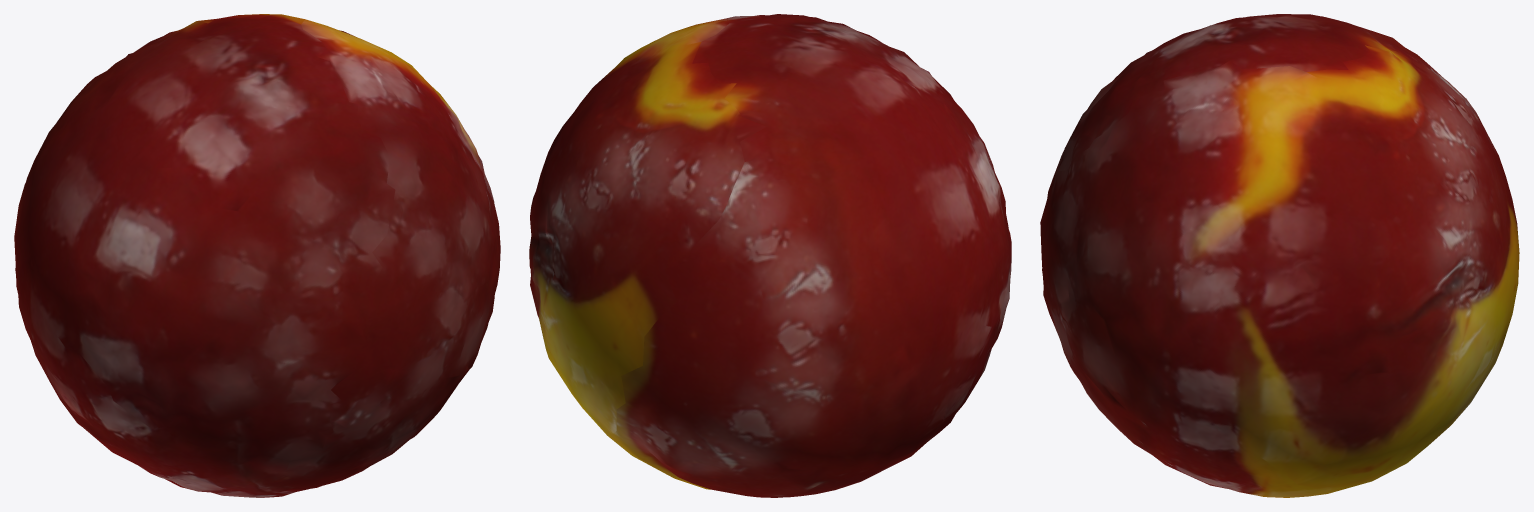
3 renders of one model, left to right at view 1: azimuth 30°, elevation 25°; view 2: azimuth 150°, elevation 25°; view 3: azimuth 270°, elevation 25°, orthographic.
Parts seen in each view (by area): view 1: textured.067; view 2: textured.067; view 3: textured.067.
Part boxes in pixels (x1,y1,x2,y2): textured.067: (14,14,500,497); textured.067: (529,14,1011,497); textured.067: (1040,14,1519,497).
Size of the model in its own units: 0.035 by 0.035 by 0.0345.
1 material, 1 textured.
